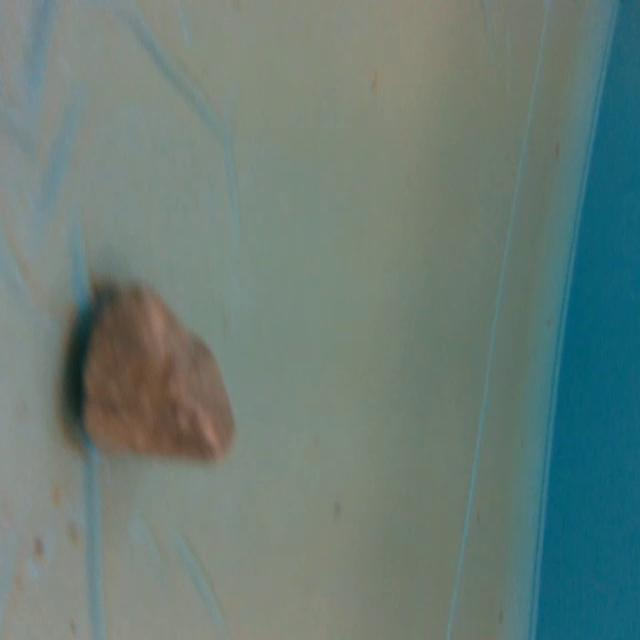rock: (76, 278, 247, 468)
